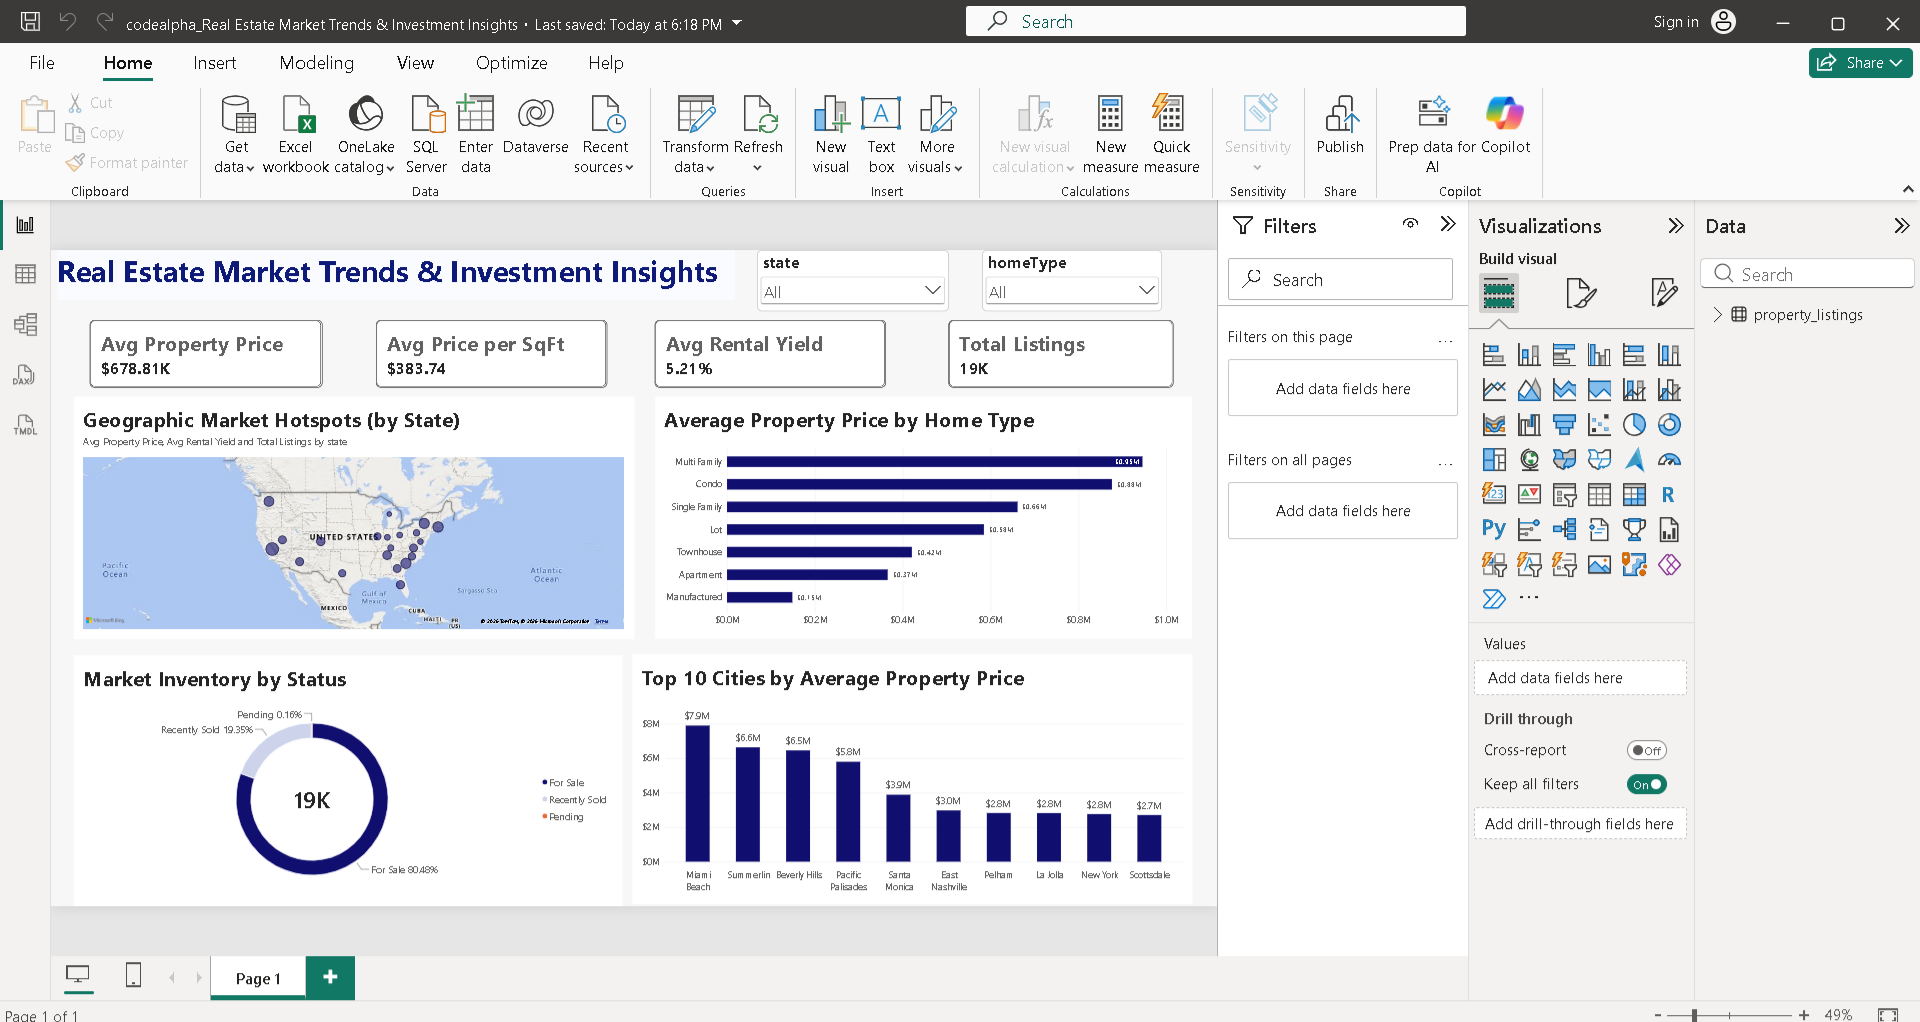

The dashboard page shown, as its layout file describes it:
{"tool":"powerbi","page":{"name":"Page 1","canvas":[1920,1080],"ordinal":0},"visuals":[{"type":"textbox","box":[10.3,0,1115.6,82.3],"z":0},{"type":"slicer","fields":{"Values":["property_listings.state"]},"box":[1163,0,314.9,100.9],"z":1000},{"type":"slicer","fields":{"Values":["property_listings.homeType"]},"box":[1533.5,0,296.4,100.9],"z":2000},{"type":"cardVisual","fields":{"Data":["property_listings.Avg Property Price"]},"box":[63.8,115.3,382.8,111.1],"z":3000},{"type":"cardVisual","fields":{"Data":["property_listings.Avg Price per SqFt"]},"box":[535.2,115.3,380.8,111.1],"z":4000},{"type":"cardVisual","fields":{"Data":["property_listings.Avg Rental Yield"]},"box":[994.2,115.3,380.8,111.1],"z":5000},{"type":"cardVisual","fields":{"Data":["property_listings.Total Listings"]},"box":[1477.9,115.3,370.5,111.1],"z":6000},{"type":"clusteredBarChart","title":"Average Property Price by Home Type","fields":{"Category":["property_listings.homeType"],"Y":["property_listings.Avg Property Price"]},"box":[994.2,240.8,885.1,399.3],"z":7000},{"type":"donutChart","title":"Market Inventory by Status","fields":{"Category":["property_listings.homeStatus"],"Y":["property_listings.Total Listings"]},"box":[37,666.9,903.6,413.7],"z":8000},{"type":"clusteredColumnChart","title":"Top 10 Cities by Average Property Price","fields":{"Category":["property_listings.city"],"Y":["property_listings.Avg Property Price"]},"box":[957.1,664.8,922.1,411.7],"z":9000},{"type":"map","title":"Geographic Market Hotspots (by State)","fields":{"Category":["property_listings.state"],"Size":["property_listings.Avg Property Price"]},"box":[37,240.8,922.1,399.3],"z":10000}]}

Visuals, with their boxes on the page's 1920x1080 design canvas (x1, y1, x2, y2). These are canvas units, not pixel positions in the 1920x1022 screenshot, which may show the page scaled, cropped or inside an application window:
textbox: x1=10 y1=0 x2=1126 y2=82
slicer - property_listings.state: x1=1163 y1=0 x2=1478 y2=101
slicer - property_listings.homeType: x1=1534 y1=0 x2=1830 y2=101
cardVisual - property_listings.Avg Property Price: x1=64 y1=115 x2=447 y2=226
cardVisual - property_listings.Avg Price per SqFt: x1=535 y1=115 x2=916 y2=226
cardVisual - property_listings.Avg Rental Yield: x1=994 y1=115 x2=1375 y2=226
cardVisual - property_listings.Total Listings: x1=1478 y1=115 x2=1848 y2=226
"Average Property Price by Home Type" clusteredBarChart: x1=994 y1=241 x2=1879 y2=640
"Market Inventory by Status" donutChart: x1=37 y1=667 x2=941 y2=1081
"Top 10 Cities by Average Property Price" clusteredColumnChart: x1=957 y1=665 x2=1879 y2=1076
"Geographic Market Hotspots (by State)" map: x1=37 y1=241 x2=959 y2=640
